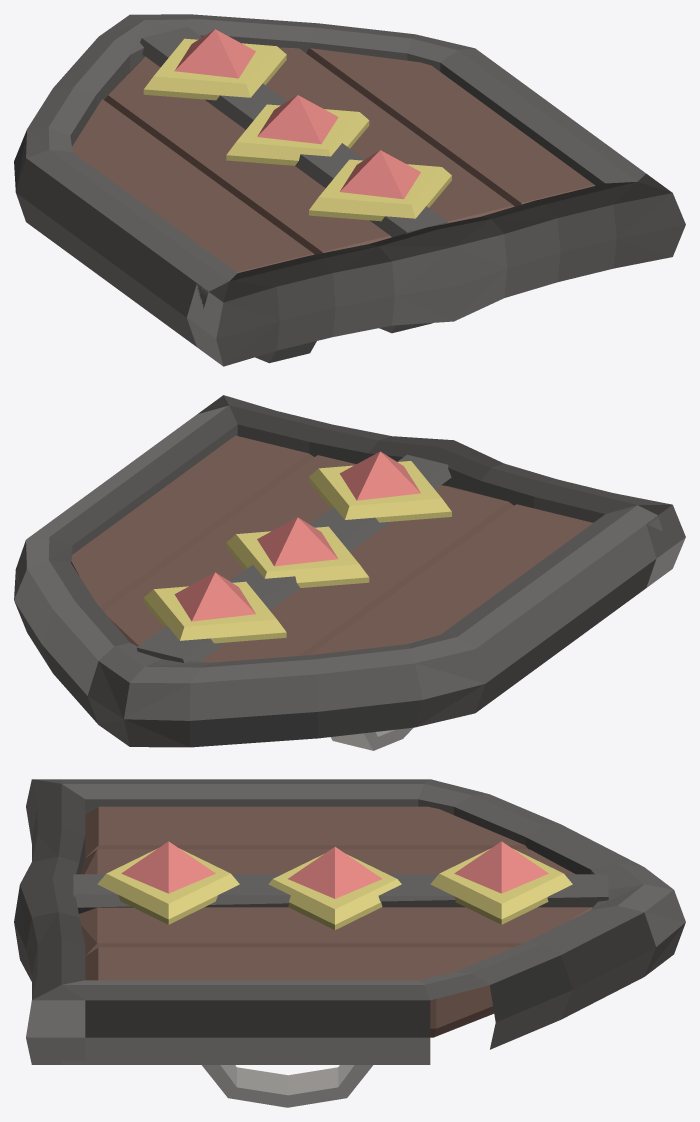
File: plaque_jewelled.glb
3 renders of one model, top to bottom at view 1: azimuth 30°, elevation 25°; view 2: azimuth 150°, elevation 25°; view 3: azimuth 270°, elevation 25°, orthographic.
Parts seen in each view (by area): view 1: group218514637; view 2: group218514637; view 3: group218514637.
Part boxes in pixels (box(x1,y1,x2,y2)): group218514637: box(14, 14, 685, 366); group218514637: box(14, 395, 685, 750); group218514637: box(14, 779, 685, 1107).
Size of the model in its own units: 0.5175 by 0.2363 by 0.6356.
